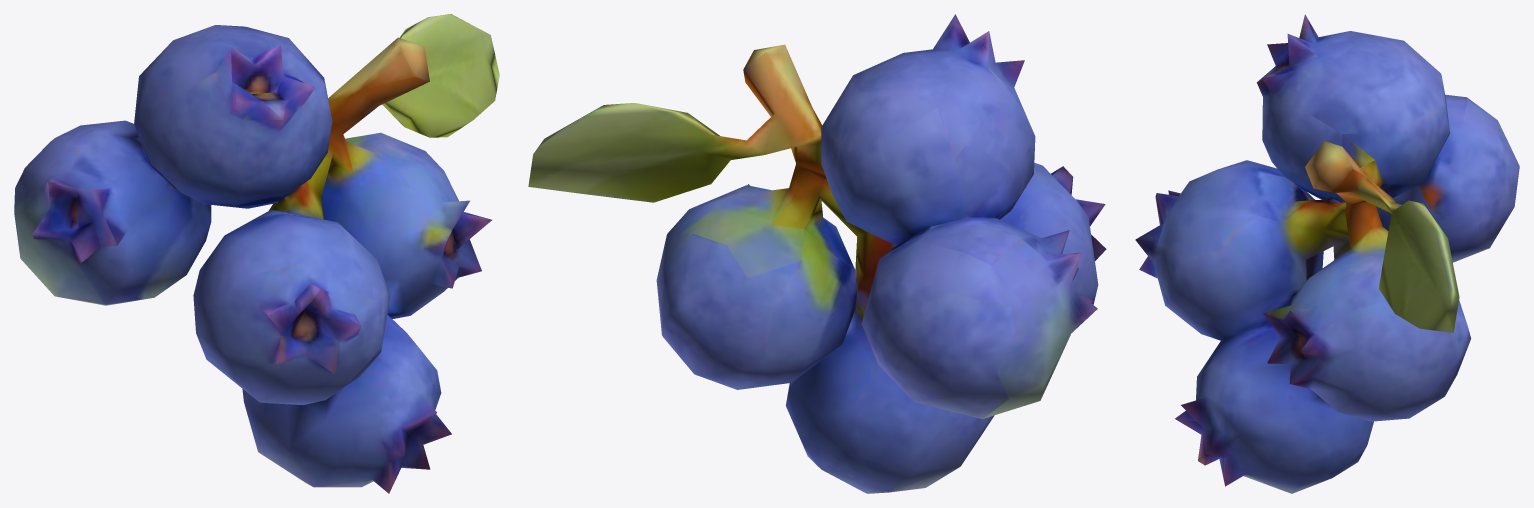
File: blueberry.glb
3 renders of one model, left to right at view 1: azimuth 30°, elevation 25°; view 2: azimuth 150°, elevation 25°; view 3: azimuth 270°, elevation 25°, orthographic. The views are drawn at different scales.
Parts seen in each view (by area): view 1: textured_mesh.obj; view 2: textured_mesh.obj; view 3: textured_mesh.obj.
Boxes of the visible parts, left/top/right/bottom form: textured_mesh.obj: left=14, top=14, right=499, bottom=493; textured_mesh.obj: left=528, top=14, right=1106, bottom=493; textured_mesh.obj: left=1135, top=14, right=1519, bottom=493.
Size of what is drawn, in the model's own units: 0.2316 by 0.2 by 0.1658.
1 material, 1 textured.
